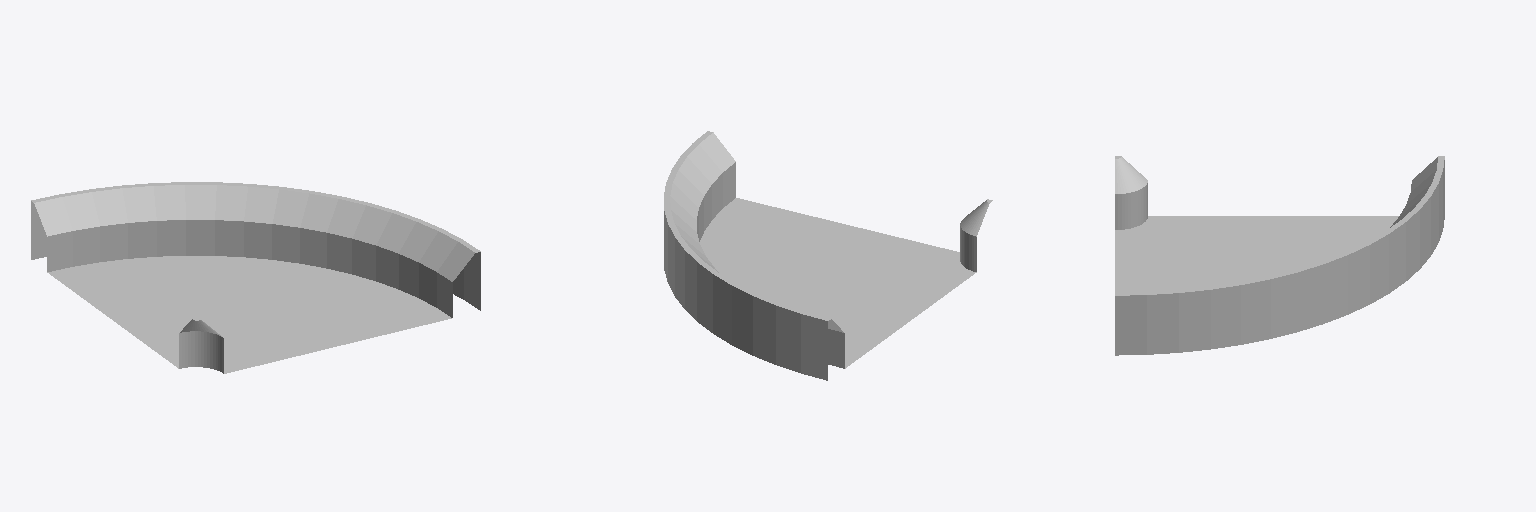
Rendered from trackpiece9.obj.
3 renders of one model, left to right at view 1: azimuth 30°, elevation 25°; view 2: azimuth 150°, elevation 25°; view 3: azimuth 270°, elevation 25°, orthographic.
Parts seen in each view (by area): view 1: Plane.001_Plane.003; view 2: Plane.001_Plane.003; view 3: Plane.001_Plane.003.
Boxes of the visible parts, box(x1,y1,x2,y2) form: Plane.001_Plane.003: box(31, 182, 480, 373); Plane.001_Plane.003: box(664, 131, 992, 380); Plane.001_Plane.003: box(1115, 156, 1444, 355).
Bounding box in the file's own units: 1 × 0.2 × 1.